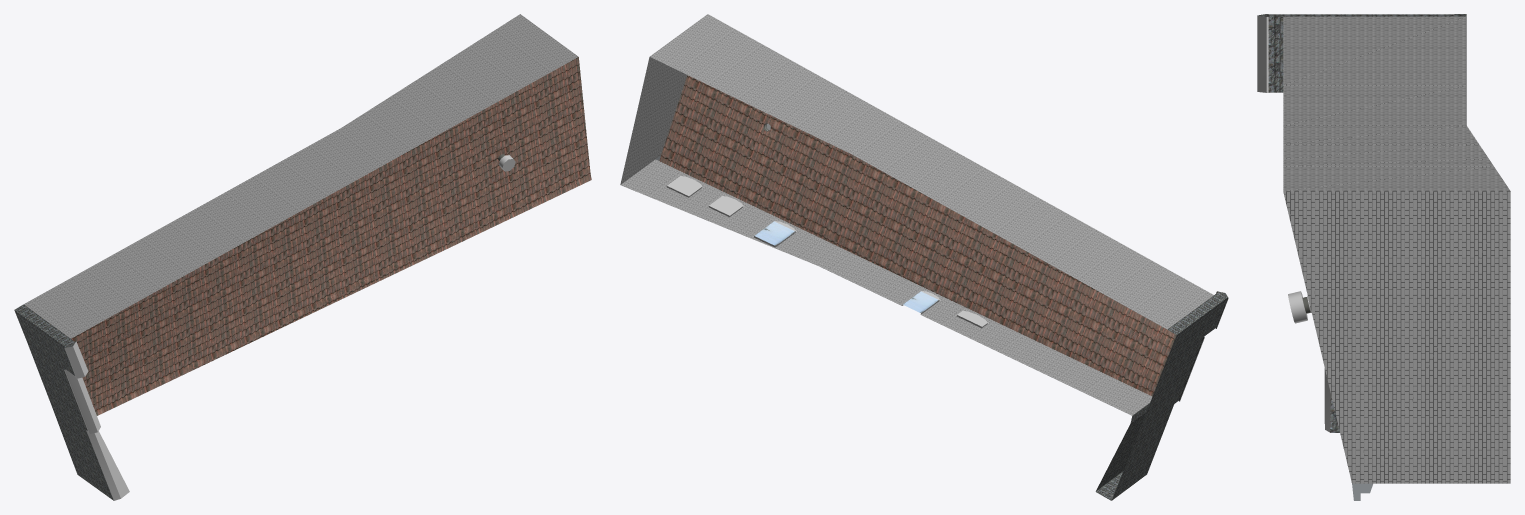
The model's file is Toompea_1_2.obj.
3 renders of one model, left to right at view 1: azimuth 30°, elevation 25°; view 2: azimuth 150°, elevation 25°; view 3: azimuth 270°, elevation 25°, orthographic. The views are drawn at different scales.
Parts seen in each view (by area): view 1: Toompea1_2; view 2: Toompea1_2; view 3: Toompea1_2.
Part boxes in pixels (left/top/right/bottom): Toompea1_2: left=14, top=14, right=591, bottom=500; Toompea1_2: left=620, top=14, right=1228, bottom=500; Toompea1_2: left=1257, top=14, right=1510, bottom=500.
Size of the model in its own units: 32.1 by 19.13 by 6.6.
